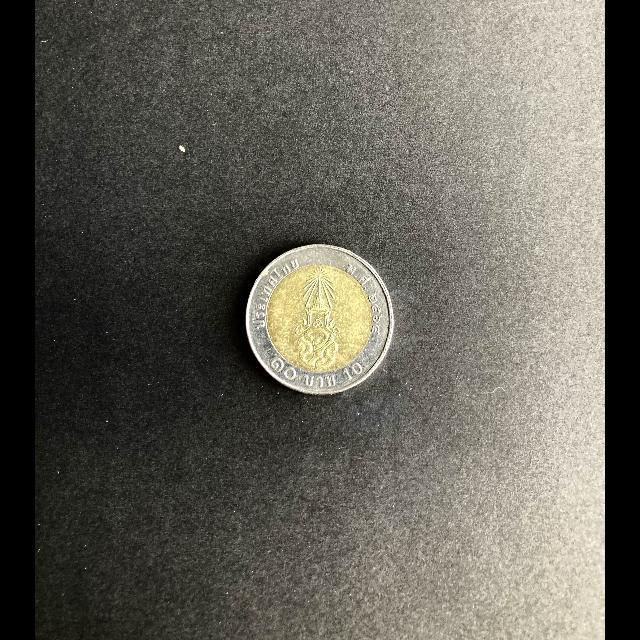10 Bath: (243, 242, 398, 398)
